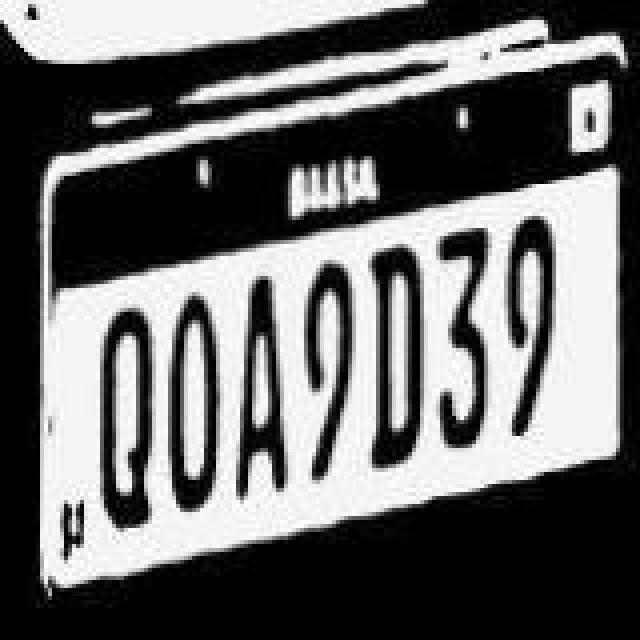3: (434, 230, 490, 454)
9: (502, 212, 558, 436), (304, 260, 356, 488)
A: (236, 276, 288, 504)
D: (368, 246, 428, 470)
O: (170, 292, 226, 512)
Q: (100, 308, 152, 532)
